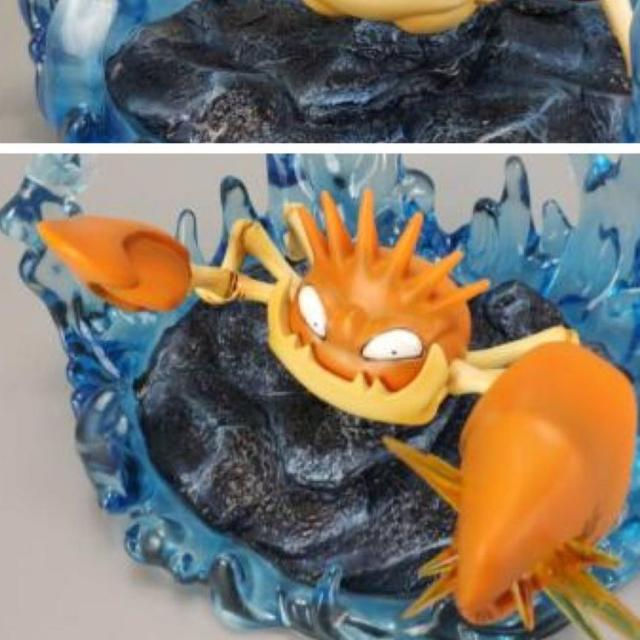Kingler: (140, 185, 587, 464)
